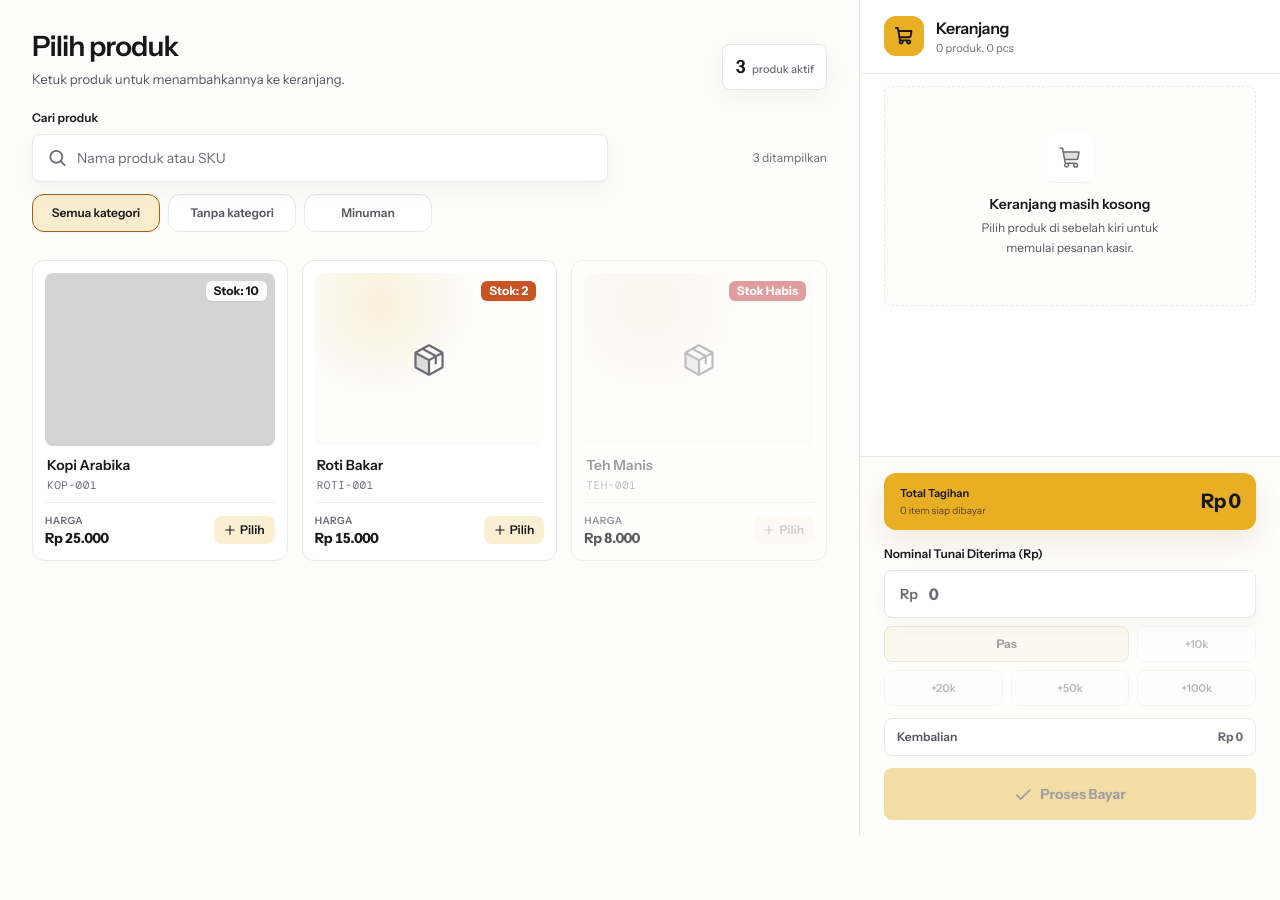
Test: CheckoutView Component › caps quantity by available stockQuantity
The image size is (1280, 900).
// Stock is 2
Click the button "Stok: 2 Roti Bakar ROTI-001".
click(430, 388)  # box [315,274,544,502]
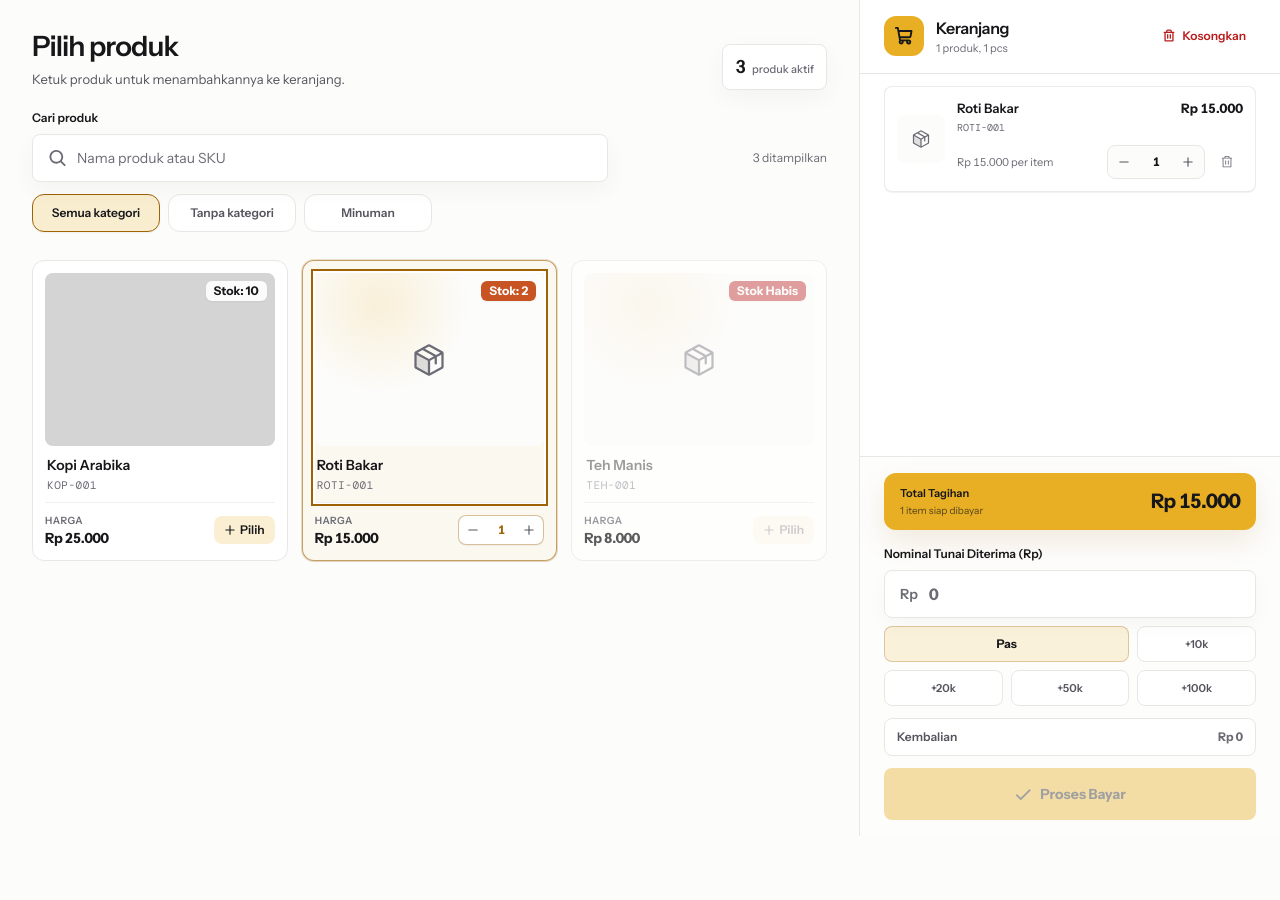
Click the button "Stok: 2 Roti Bakar ROTI-001".
click(430, 388)  # box [315,274,544,502]
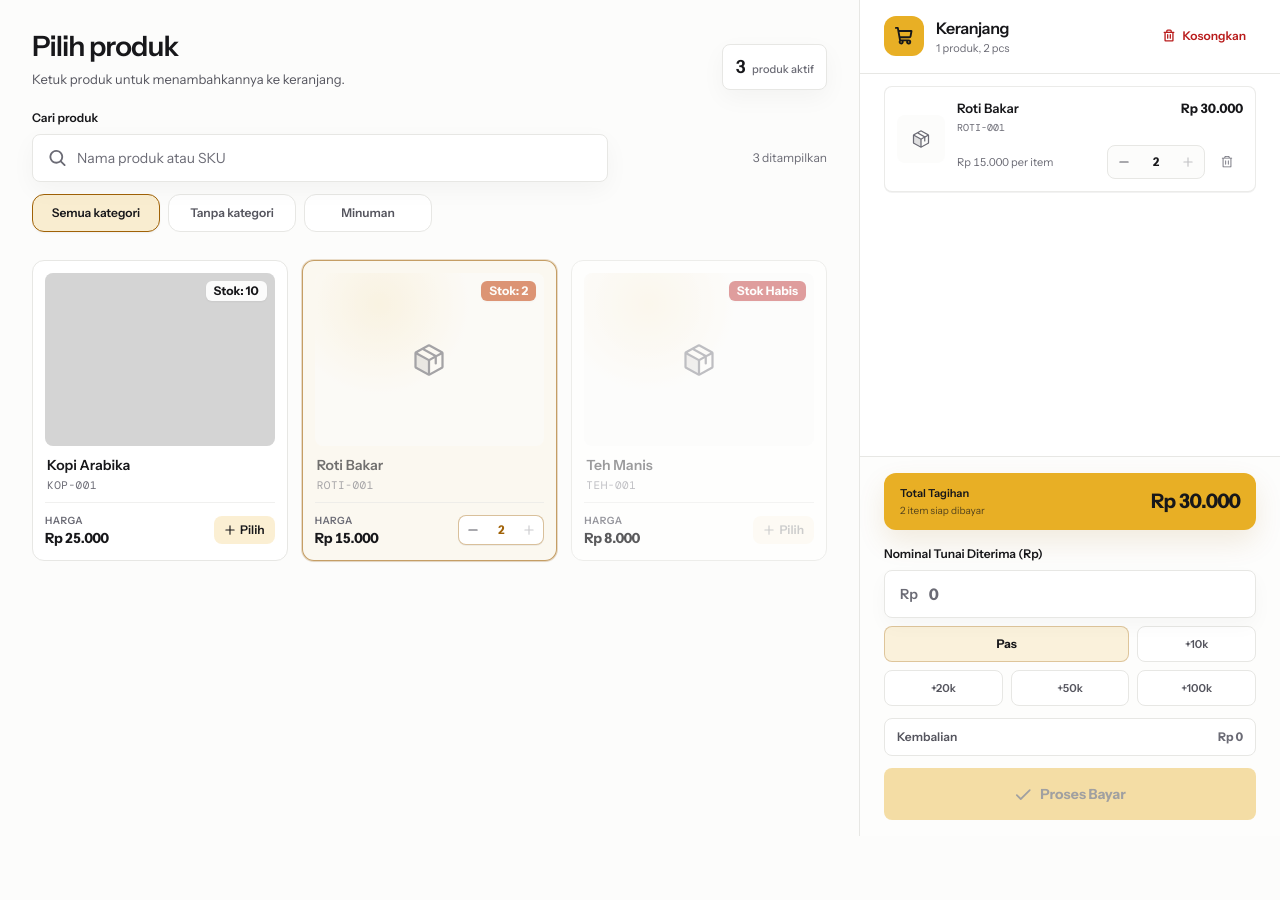
Result: the button "Stok: 2 Roti Bakar ROTI-001" is disabled at [315,274,544,502]
Result: the button with aria-label "tambah roti bakar" is disabled at [315,274,544,502]
Result: the button named "tambah roti bakar" next to "Rp 8.000" is disabled at [515,516,543,544]
